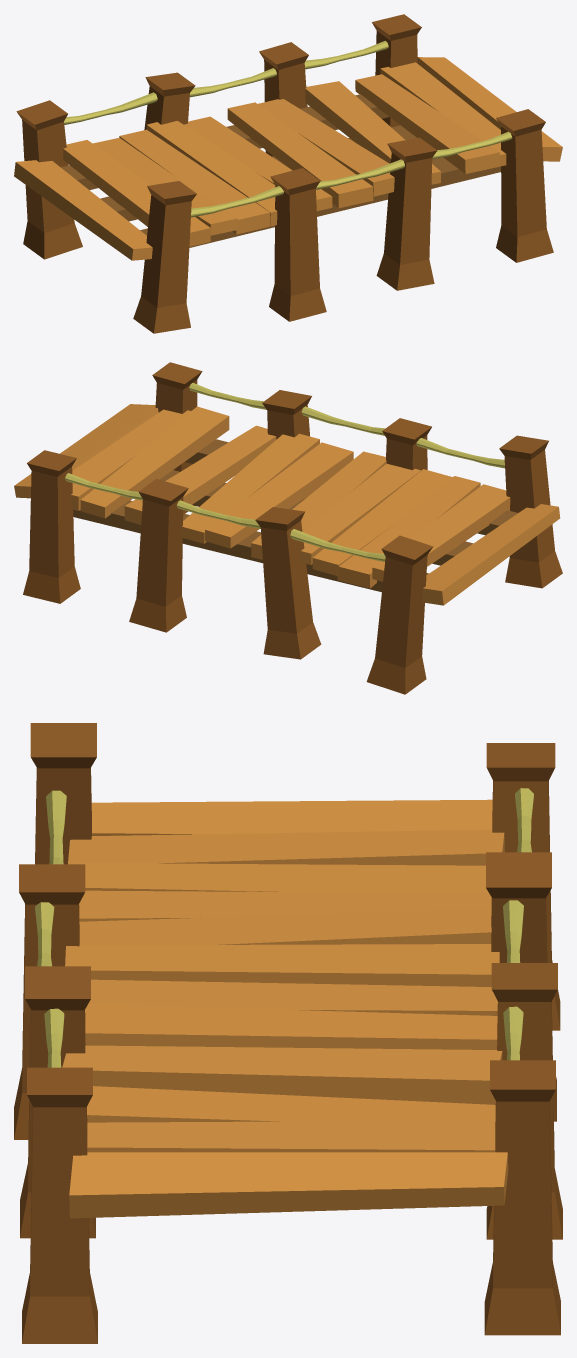
The model's file is bridge (2).fbx.
3 views of the same model, one above another, from view 1: azimuth 30°, elevation 25°; view 2: azimuth 150°, elevation 25°; view 3: azimuth 270°, elevation 25° (orthographic). The views are drawn at different scales.
Parts seen in each view (by area): view 1: Cube.064, Cube.075, Cube.077, Cube.072, Cube.074, Cube.068, Cube.069, Cube.061, Cube.086, Cube.055, Cube.063, Cube.057 (+17 smaller); view 2: Cube.074, Cube.076, Cube.073, Cube.078, Cube.064, Cube.069, Cube.068, Cube.061, Cube.062, Cube.063, Cube.055, Cube.086 (+17 smaller); view 3: Cube.071, Cube.063, Cube.073, Cube.060, Cube.072, Cube.062, Cube.086, Cube.070, Cube.068, Cube.057, Cube.067, Cube.061 (+14 smaller).
Boxes of the visible parts, x1,y1,x2,y2 form: Cube.064: (133,181,196,333); Cube.075: (269,168,326,321); Cube.077: (376,137,437,290); Cube.072: (496,109,553,262); Cube.074: (16,100,82,259); Cube.068: (14,160,152,260); Cube.069: (355,74,500,173); Cube.061: (227,102,373,207); Cube.086: (63,140,210,246); Cube.055: (119,129,270,234); Cube.063: (305,81,440,184); Cube.057: (146,120,277,226); Cube.074: (366,535,433,694); Cube.076: (255,507,321,659); Cube.073: (23,450,80,603); Cube.078: (129,479,188,632); Cube.064: (499,435,562,588); Cube.069: (79,406,229,518); Cube.068: (422,504,560,605); Cube.061: (205,442,353,548); Cube.062: (181,433,319,543); Cube.063: (124,425,276,524); Cube.055: (312,469,452,576); Cube.086: (372,484,510,581); Cube.071: (69,1152,508,1218); Cube.063: (62,1045,502,1104); Cube.073: (484,1060,560,1335); Cube.060: (65,944,499,986); Cube.072: (22,1067,97,1343); Cube.062: (85,1004,497,1049); Cube.086: (68,829,504,865); Cube.070: (87,1119,495,1152); Cube.068: (91,799,492,835); Cube.057: (79,908,491,945); Cube.067: (73,863,487,891); Cube.061: (88,979,497,1015).
Size of the model in its own units: 677 by 225 by 403.
